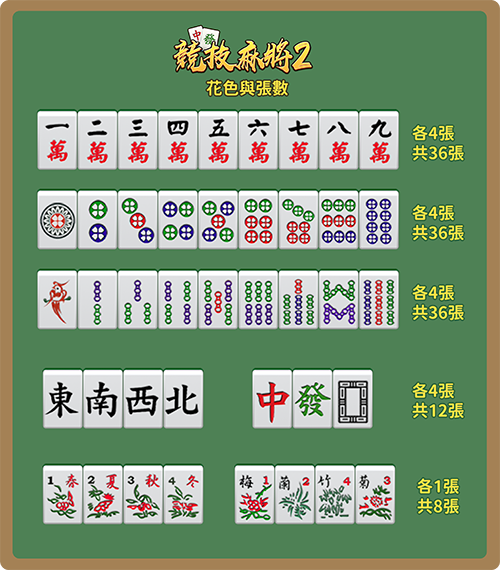b1: (39, 264, 78, 330)
b2: (83, 266, 112, 329)
b3: (119, 268, 157, 331), (160, 272, 199, 328)
b4: (198, 268, 237, 328)
b5: (240, 269, 280, 328)
b6: (281, 269, 316, 330)
b7: (321, 270, 358, 332)
b8: (361, 270, 400, 330)
c1: (37, 109, 75, 167)
c2: (83, 112, 115, 168)
c3: (119, 106, 156, 166)
c4: (160, 110, 197, 165)
c5: (204, 113, 234, 165)
c6: (243, 113, 276, 168)
c7: (285, 114, 319, 168)
c8: (323, 115, 359, 165)
c9: (366, 114, 398, 166)
d1: (39, 194, 77, 244)
d2: (76, 186, 118, 249)
d3: (119, 183, 158, 249)
d4: (158, 185, 198, 248)
d5: (200, 191, 237, 249)
d6: (239, 186, 278, 248)
d7: (279, 184, 318, 248)
d8: (319, 186, 361, 249)
d9: (361, 192, 396, 249)
dg: (293, 369, 333, 427)
dr: (251, 371, 293, 427)
dw: (334, 372, 376, 427)
f1: (234, 467, 272, 488)
f2: (275, 468, 314, 493)
f3: (314, 466, 354, 490)
f4: (355, 466, 398, 491)
s1: (36, 467, 83, 488)
s2: (83, 468, 123, 491)
s3: (123, 468, 164, 491)
s4: (162, 470, 205, 491)
we: (41, 370, 82, 430)
wn: (163, 368, 209, 430)
ws: (84, 370, 120, 428)
ww: (122, 367, 162, 428)
